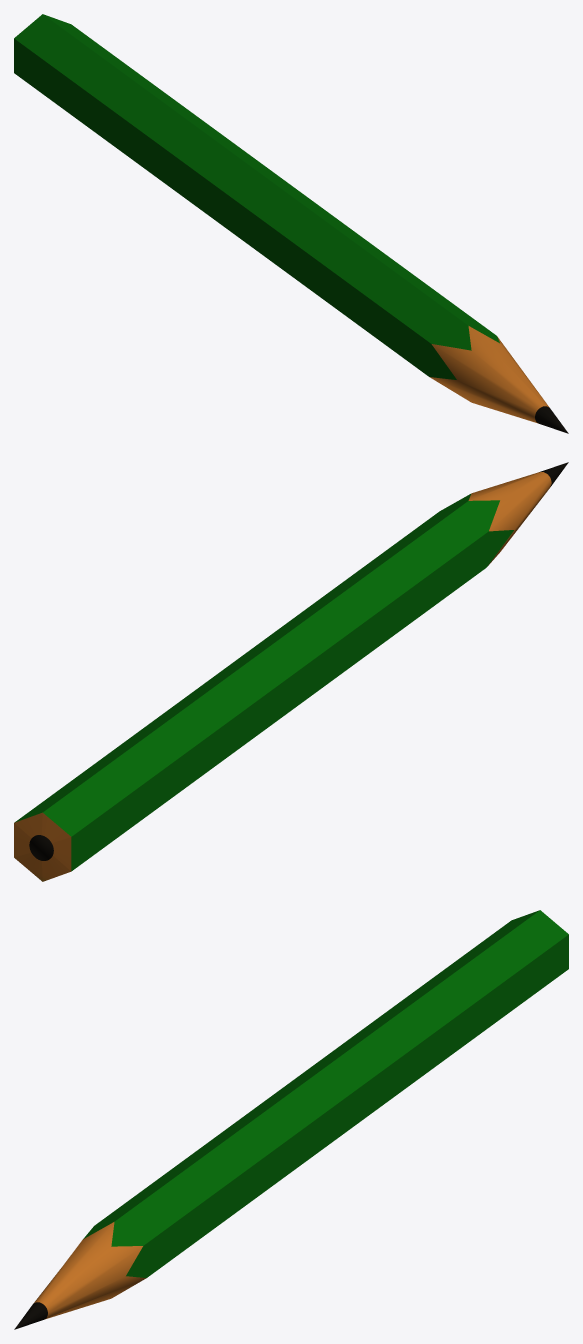
File: enpitu.fbx
The picture shows the model from 3 angles, top to bottom: view 1: azimuth 30°, elevation 25°; view 2: azimuth 150°, elevation 25°; view 3: azimuth 330°, elevation 25°; orthographic projection.
Parts seen in each view (by area): view 1: enpitu; view 2: enpitu; view 3: enpitu.
Part boxes in pixels (x1,y1,x2,y2): enpitu: (14,14,568,433); enpitu: (14,462,568,881); enpitu: (14,910,568,1329).
Bounding box in the file's own units: 0.9255 × 1.07 × 14.73.
Materials: 1 (1 with a texture image).
